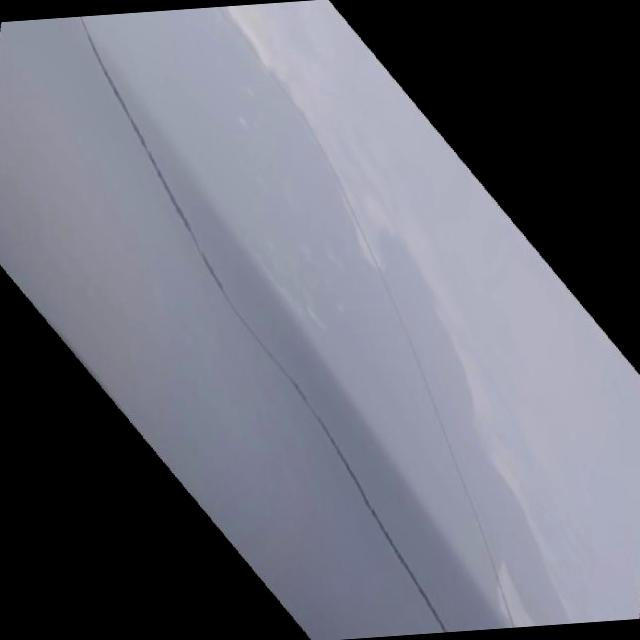crack: (96, 73, 450, 630)
